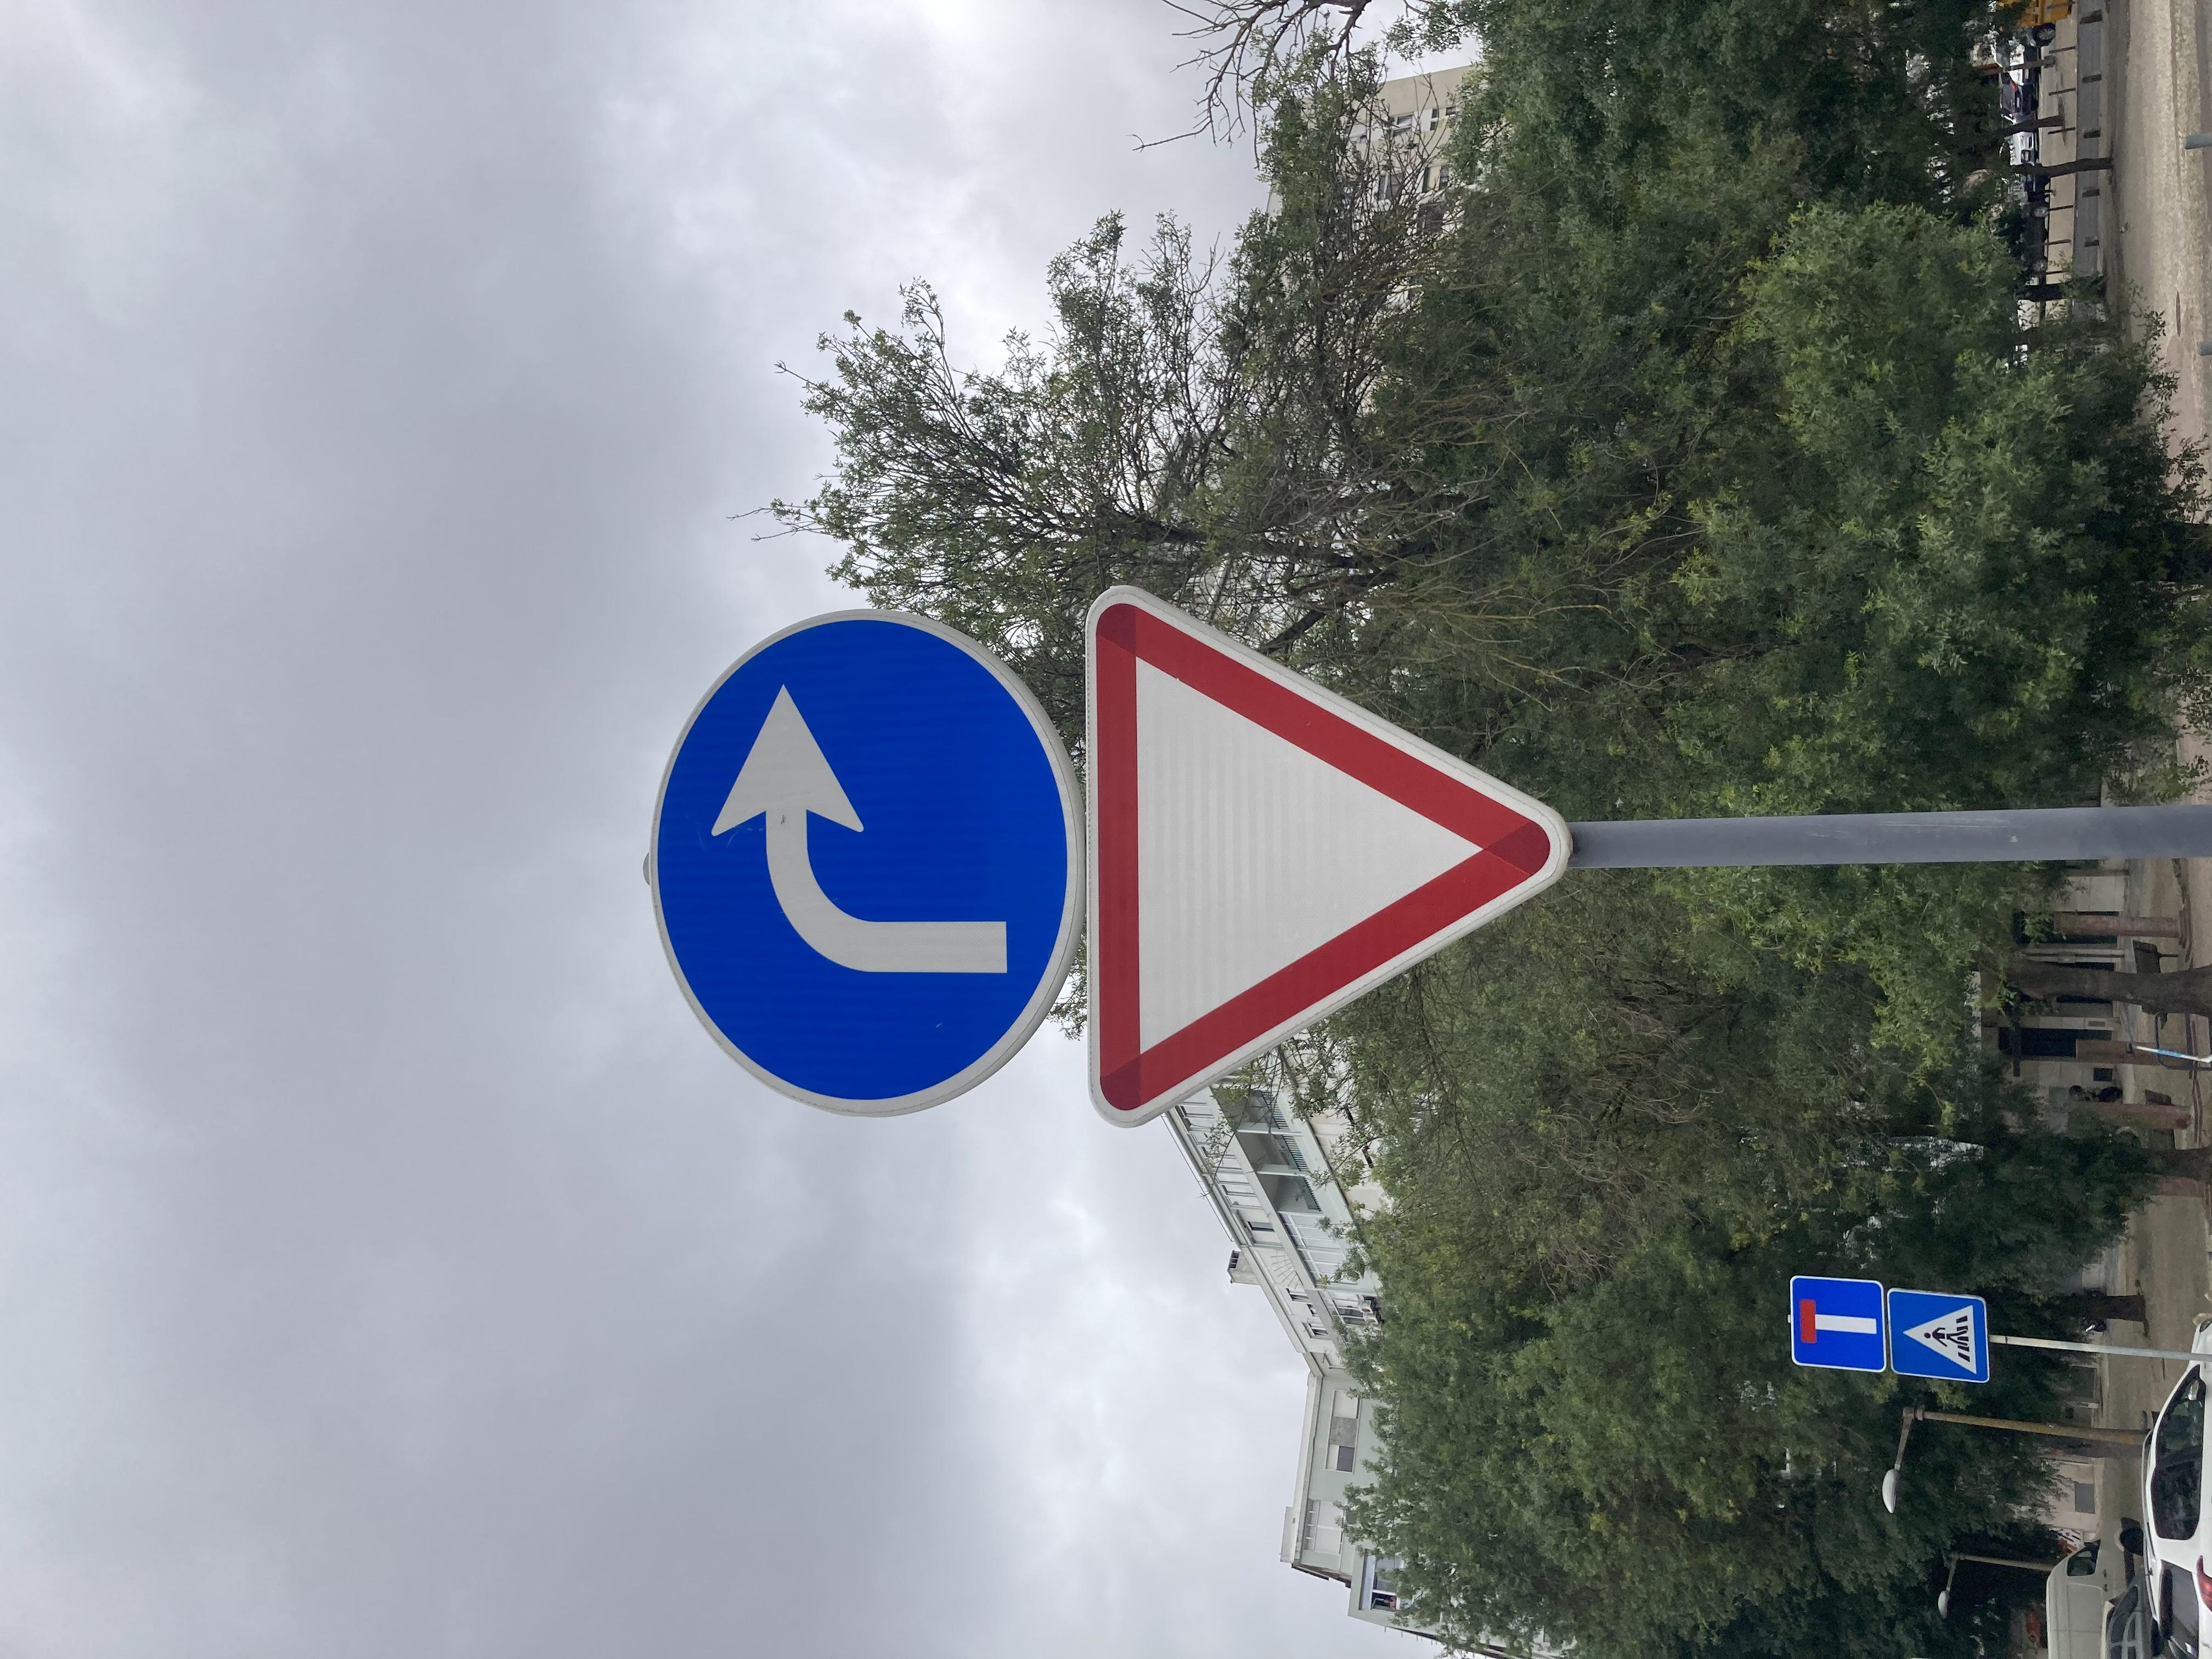cedencia de passagem: (738, 819, 1390, 1188)
passagem de peoes: (385, 1424, 496, 1486)
sentido obrigatorio: (761, 490, 1360, 810)
via publica sem saida: (373, 1333, 516, 1417)
